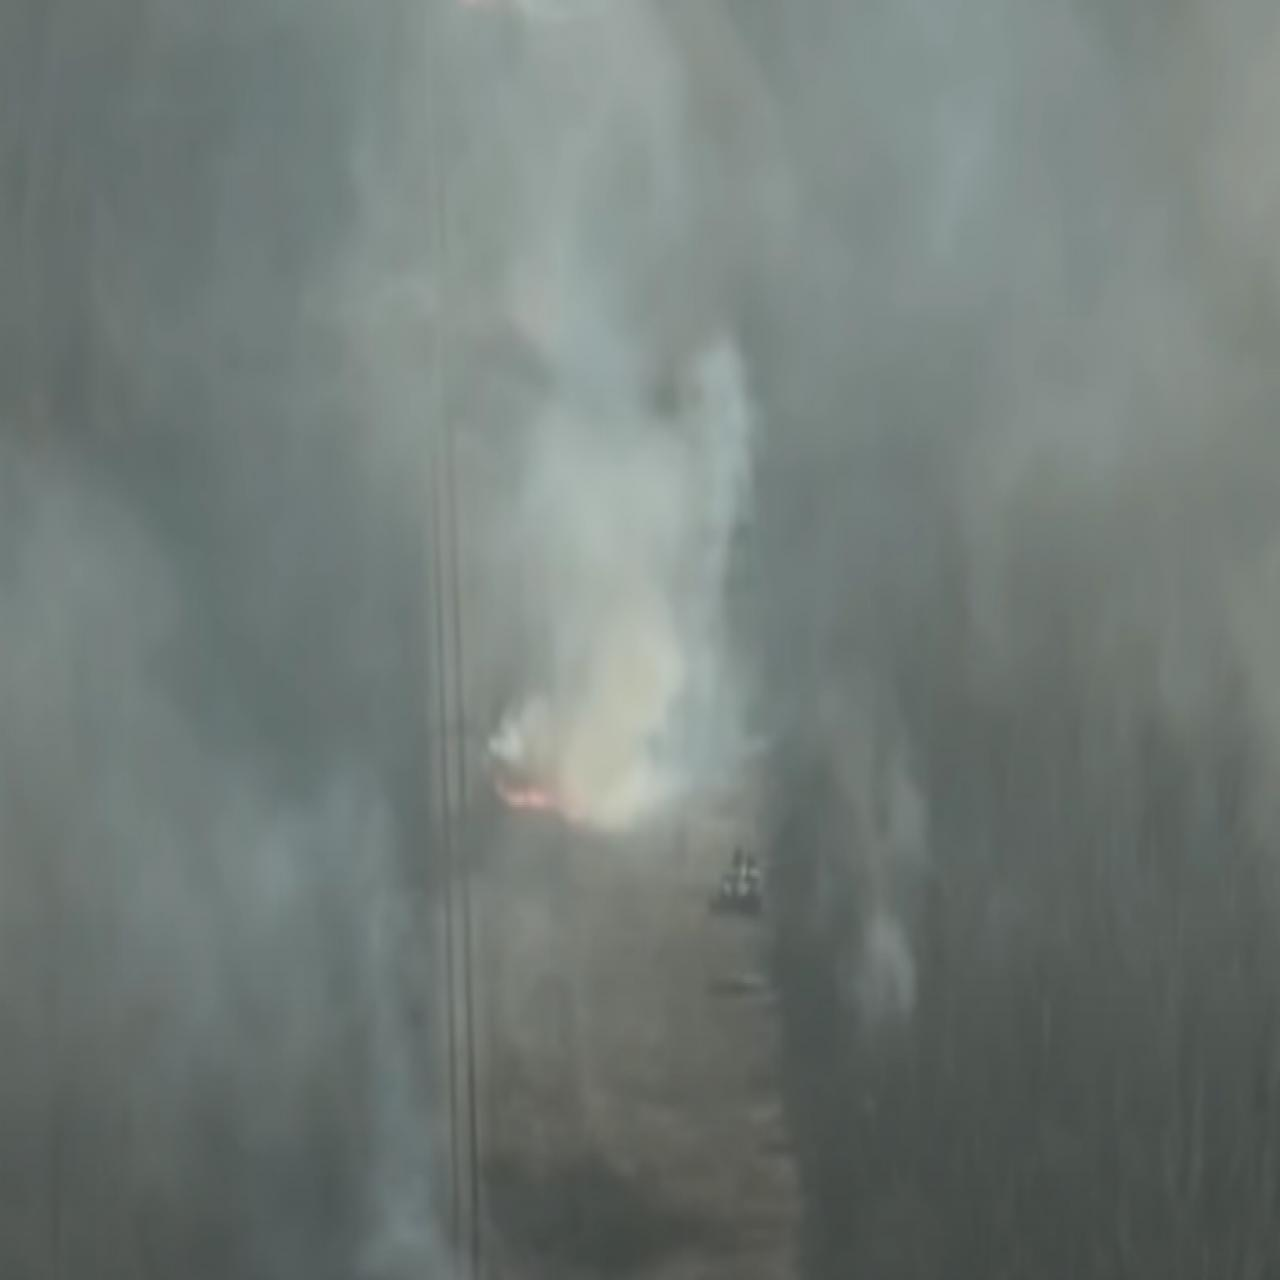MIL_Veh: (703, 842, 767, 917)
